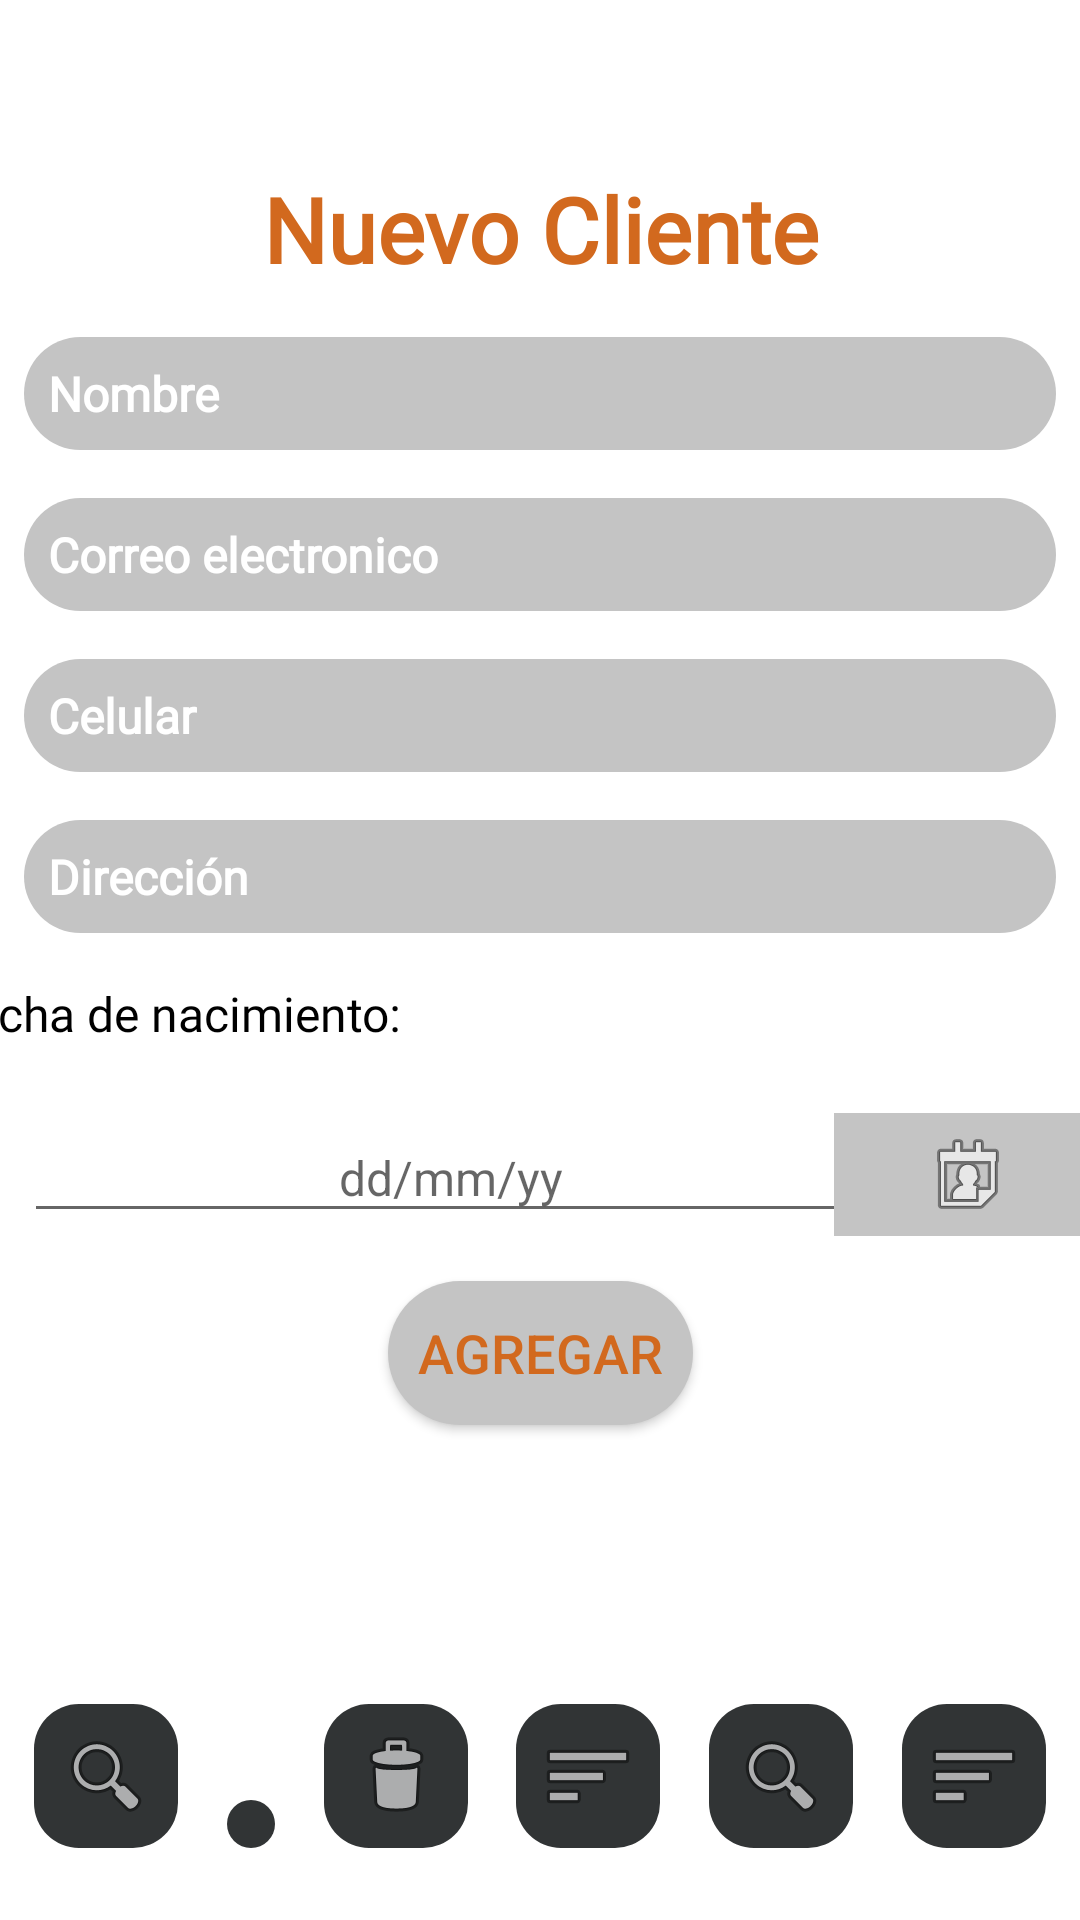

Icons on this 1080px x 1920px Android screen, each with the point to tap as (x=x, y=y):
calendar: (x=957, y=1174)
delete: (x=396, y=1776)
search: (x=106, y=1776), (x=781, y=1776)
sort by size: (x=588, y=1776), (x=974, y=1776)
